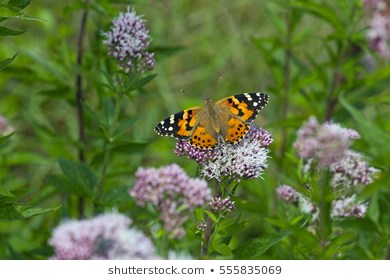Argyreus hyperbius: (148, 76, 273, 147)
butterfly: (150, 78, 275, 149)
